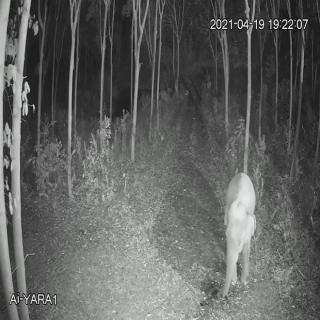Elephant: (212, 169, 258, 307)
